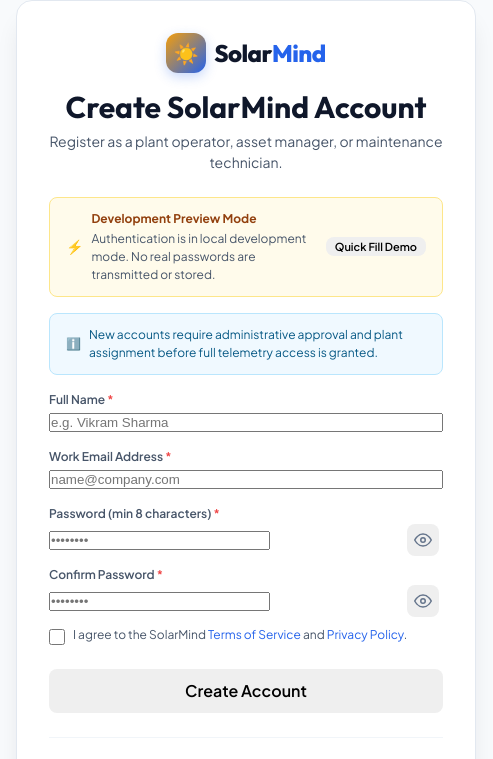
Test case: SolarMind Authentication System Suite › RegisterPage Component › validates password mismatch and unaccepted terms
Type "Jane Doe" into the field labelled "Full Name *" at (246, 422), box [49,412,443,432]
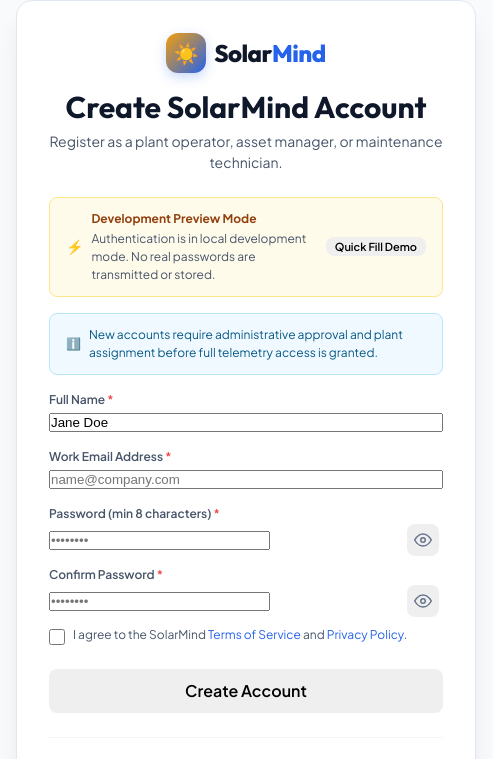
Type "jane@solarmind.io" into the field labelled "Work Email Address *" at (246, 479), box [49,470,443,488]
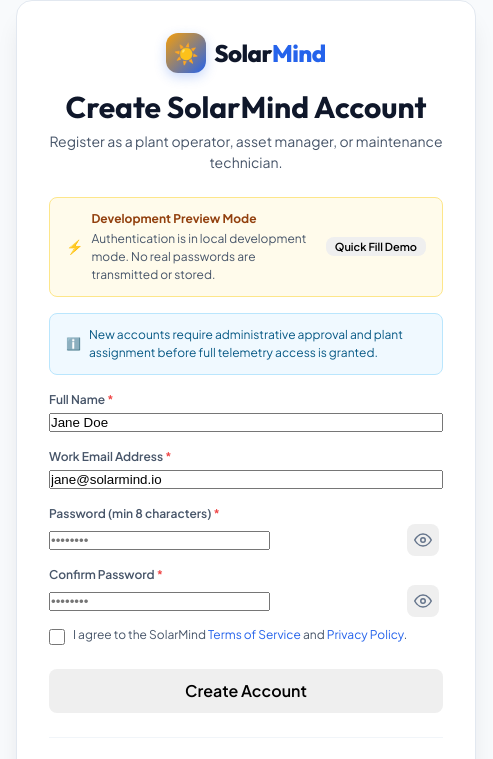
Type "Password123!" into the password field labelled "Password (min 8 characters) *" at (160, 540), box [49,530,270,550]
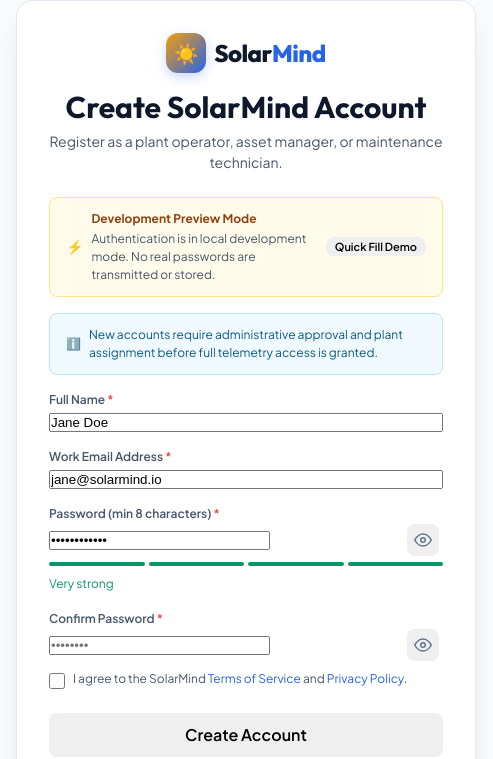
Type "DifferentPassword123!" into the password field labelled "Confirm Password *" at (160, 645), box [49,636,270,654]
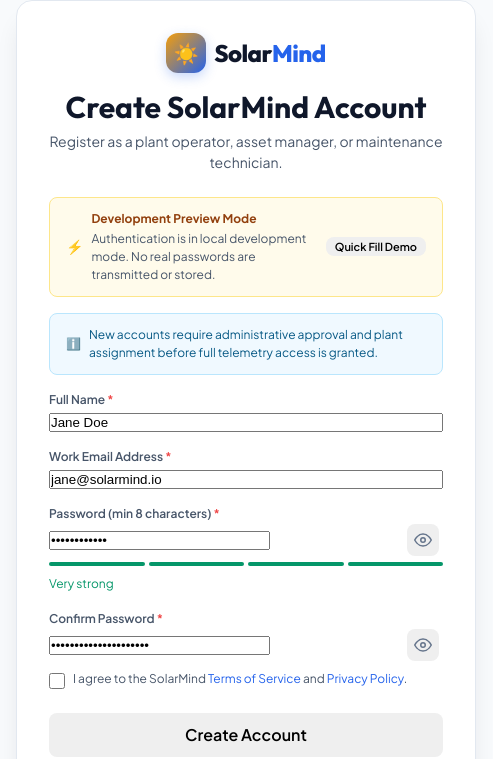
Click the button "Create Account" at (246, 734), box [49,712,443,756]
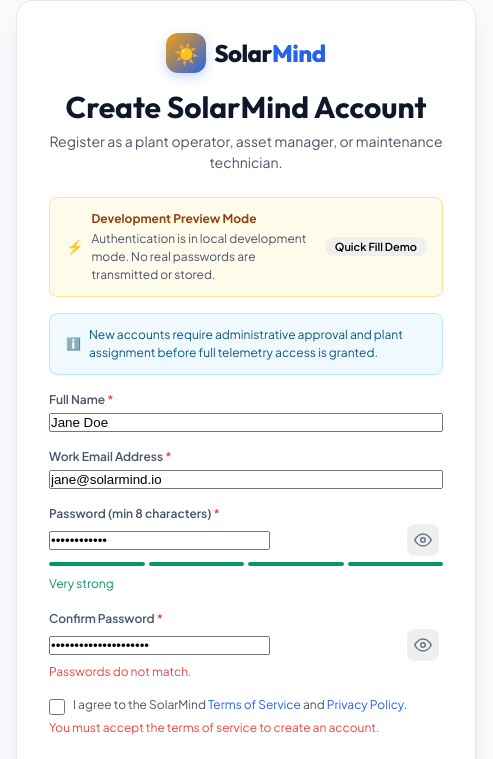
expect the text "Passwords do not match." is shown: met, box [49,664,192,678]
expect the text "You must accept the terms of service to create an account." is shown: met, box [49,720,379,734]
